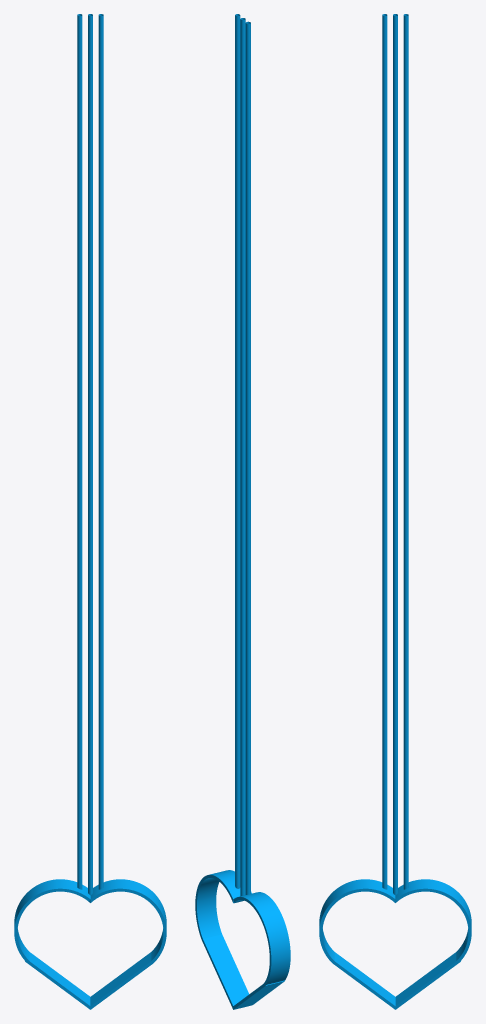
Rendered from cutter4_heart.fbx.
3 renders of one model, left to right at view 1: azimuth 90°, elevation 25°; view 2: azimuth 210°, elevation 25°; view 3: azimuth 270°, elevation 25°, orthographic.
Visible parts, largest first — view 1: Cutter4_Heart; view 2: Cutter4_Heart; view 3: Cutter4_Heart.
Boxes of the visible parts, box(x1,y1,x2,y2) form: Cutter4_Heart: box(14, 14, 166, 1009); Cutter4_Heart: box(195, 14, 290, 1009); Cutter4_Heart: box(319, 14, 471, 1009).
Size of the model in its own units: 16.8 by 820 by 114.
